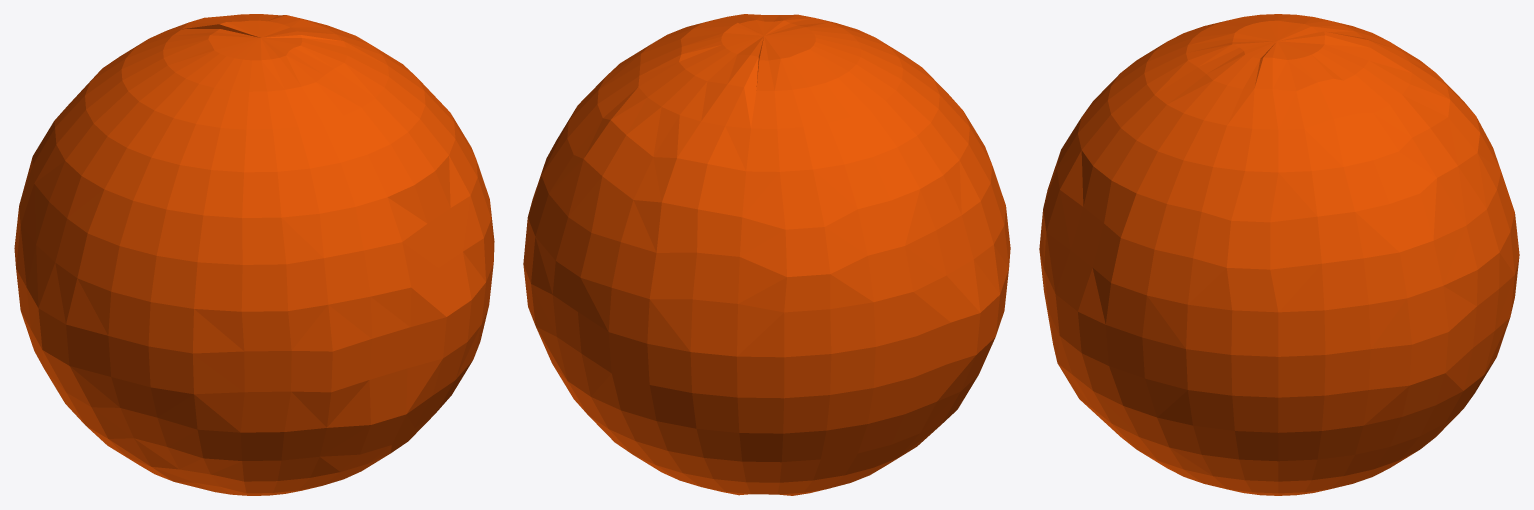
The model's file is fire_ball.dae.
The picture shows the model from 3 angles, left to right: view 1: azimuth 30°, elevation 25°; view 2: azimuth 150°, elevation 25°; view 3: azimuth 270°, elevation 25°; orthographic projection.
Parts seen in each view (by area): view 1: Сфера; view 2: Сфера; view 3: Сфера.
Boxes of the visible parts, x1,y1,x2,y2 form: Сфера: (14,14,494,495); Сфера: (523,14,1010,495); Сфера: (1039,14,1519,495).
Bounding box in the file's own units: 2.02 × 1.99 × 2.
